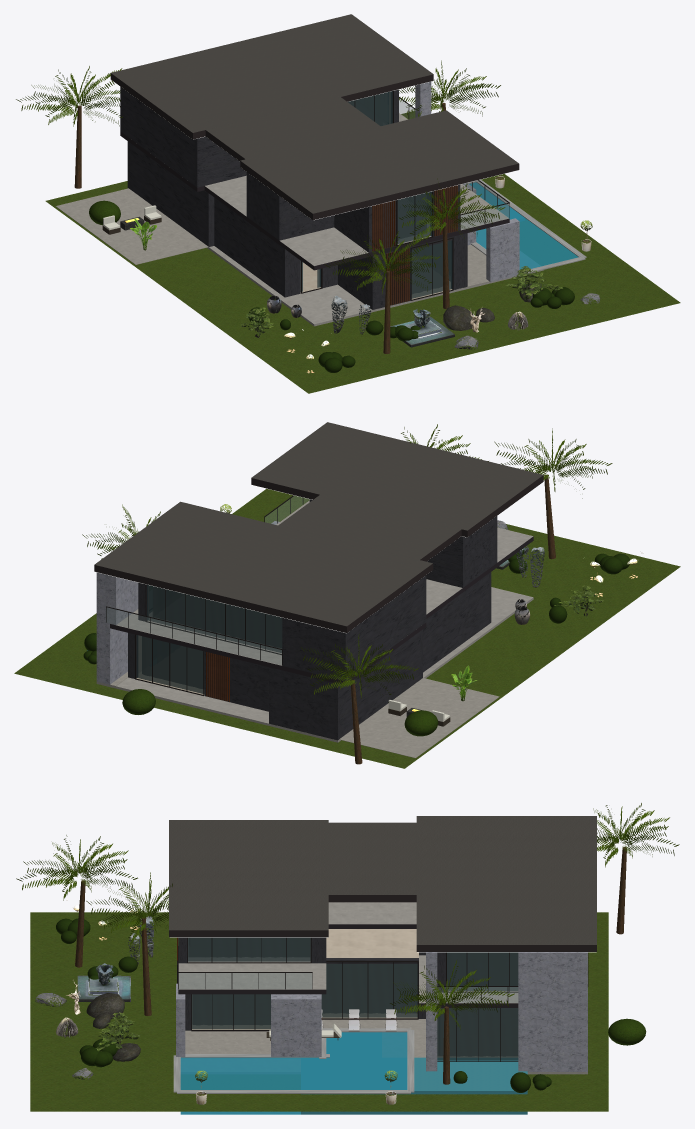
Rendered from chloe.glb.
3 renders of one model, top to bottom at view 1: azimuth 30°, elevation 25°; view 2: azimuth 150°, elevation 25°; view 3: azimuth 270°, elevation 25°, orthographic. The views are drawn at different scales.
Visible parts, largest first — view 1: m_Material_16, m_Material_19, m_Material_6, m_Material_26, m_Material_14, m_Material_1, m_Material_8, m_Material_0, m_Material_11, m_Material_9, m_Material_12, m_Material_2 (+10 smaller); view 2: m_Material_16, m_Material_6, m_Material_19, m_Material_8, m_Material_9, m_Material_14, m_Material_1, m_Material_26, m_Material_0, m_Material_12, m_Material_15, m_Material_10 (+6 smaller); view 3: m_Material_16, m_Material_19, m_Material_8, m_Material_9, m_Material_12, m_Material_2, m_Material_14, m_Material_26, m_Material_3, m_Material_1, m_Material_15, m_Material_7 (+15 smaller).
Boxes of the visible parts, x1,y1,x2,y2 form: m_Material_16: (110, 14, 519, 220); m_Material_19: (45, 111, 680, 393); m_Material_6: (120, 87, 467, 309); m_Material_26: (16, 60, 505, 294); m_Material_14: (120, 113, 509, 270); m_Material_1: (55, 188, 489, 288); m_Material_8: (300, 91, 452, 298); m_Material_0: (127, 188, 543, 326); m_Material_11: (372, 185, 457, 305); m_Material_9: (348, 93, 450, 293); m_Material_12: (415, 81, 519, 282); m_Material_2: (469, 182, 578, 269); m_Material_16: (94, 422, 543, 632); m_Material_6: (128, 499, 497, 740); m_Material_19: (14, 488, 680, 768); m_Material_8: (136, 584, 282, 693); m_Material_9: (142, 587, 281, 688); m_Material_14: (110, 500, 533, 684); m_Material_1: (110, 672, 499, 758); m_Material_26: (82, 424, 612, 702); m_Material_0: (96, 587, 533, 742); m_Material_12: (96, 521, 279, 684); m_Material_15: (106, 496, 309, 664); m_Material_10: (106, 495, 303, 695); m_Material_16: (169, 816, 596, 951); m_Material_19: (30, 912, 608, 1111); m_Material_8: (188, 937, 518, 1060); m_Material_9: (189, 938, 517, 1055); m_Material_12: (176, 952, 587, 1071); m_Material_2: (180, 1032, 407, 1089); m_Material_14: (178, 902, 518, 1007); m_Material_26: (16, 803, 679, 1029); m_Material_3: (301, 1057, 527, 1114); m_Material_1: (185, 1019, 425, 1057); m_Material_15: (179, 973, 517, 1002); m_Material_7: (326, 929, 418, 957).
Size of the model in its own units: 28.09 by 9.8 by 38.34.
35 materials, 35 textured.
